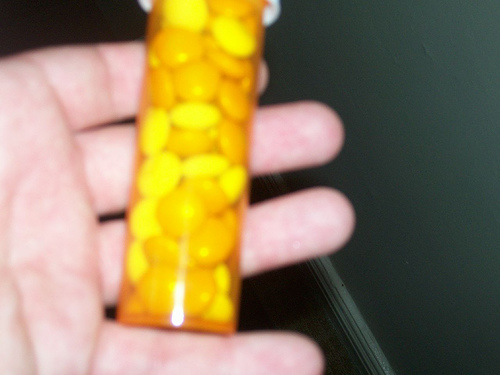pill bottle: (116, 1, 280, 339)
